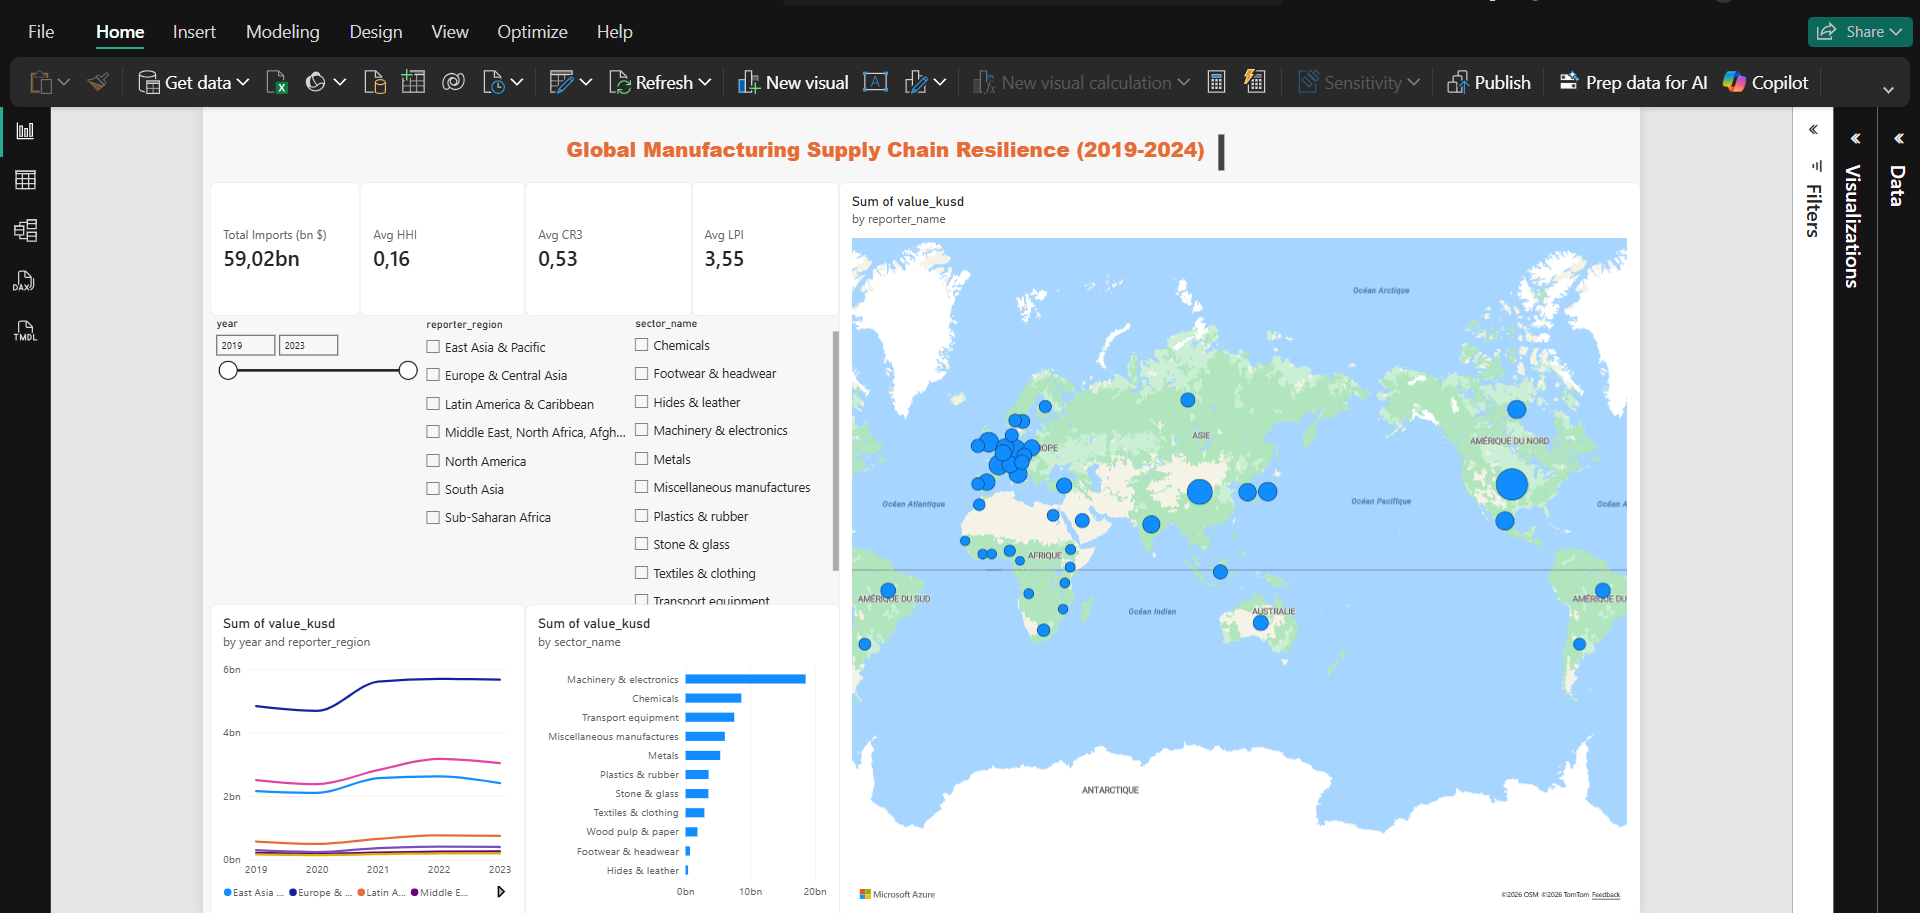

The dashboard page shown, as its layout file describes it:
{"tool":"powerbi","page":{"name":"Page 1","canvas":[1920,1080],"ordinal":0},"visuals":[{"type":"cardVisual","fields":{"Data":["Sum(MasterPanel.value_kusd)"]},"box":[10.3,100.9,199.7,179.1],"z":0},{"type":"cardVisual","fields":{"Data":["Avg(MasterPanel.cr3)"]},"box":[430.2,100.9,222.3,179.1],"z":1},{"type":"cardVisual","fields":{"Data":["Avg(MasterPanel.hhi)"]},"box":[209.9,100.9,220.2,179.1],"z":3},{"type":"cardVisual","fields":{"Data":["Avg(MasterPanel.lpi_score)"]},"box":[652.5,100.9,197.6,179.1],"z":4},{"type":"azureMap","fields":{"Category":["MasterPanel.reporter_name"],"Size":["Sum(MasterPanel.value_kusd)"]},"box":[850.1,100.9,1070.3,979.8],"z":5},{"type":"slicer","fields":{"Values":["MasterPanel.year"]},"box":[10.3,279.9,279.9,343.7],"z":6},{"type":"slicer","fields":{"Values":["MasterPanel.reporter_region"]},"box":[290.2,282,279.9,382.8],"z":7},{"type":"slicer","fields":{"Values":["MasterPanel.sector_name"]},"box":[570.2,279.9,279.9,384.9],"z":8},{"type":"lineChart","fields":{"Category":["MasterPanel.year"],"Series":["MasterPanel.reporter_region"],"Y":["Sum(MasterPanel.value_kusd)"]},"box":[10.3,664.8,419.9,415.8],"z":9},{"type":"clusteredBarChart","fields":{"Category":["MasterPanel.sector_name"],"Y":["Sum(MasterPanel.value_kusd)"]},"box":[430.2,664.8,419.9,415.8],"z":10},{"type":"textbox","box":[467.5,36.7,896.7,51.8],"z":12}]}

Visuals, with their boxes on the page's 1920x1080 design canvas (x1, y1, x2, y2). These are canvas units, not pixel positions in the 1920x913 screenshot, which may show the page scaled, cropped or inside an application window:
cardVisual - Sum(MasterPanel.value_kusd): locate(10, 101, 210, 280)
cardVisual - Avg(MasterPanel.cr3): locate(430, 101, 652, 280)
cardVisual - Avg(MasterPanel.hhi): locate(210, 101, 430, 280)
cardVisual - Avg(MasterPanel.lpi_score): locate(652, 101, 850, 280)
azureMap - MasterPanel.reporter_name x Sum(MasterPanel.value_kusd): locate(850, 101, 1920, 1081)
slicer - MasterPanel.year: locate(10, 280, 290, 624)
slicer - MasterPanel.reporter_region: locate(290, 282, 570, 665)
slicer - MasterPanel.sector_name: locate(570, 280, 850, 665)
lineChart - MasterPanel.year x MasterPanel.reporter_region: locate(10, 665, 430, 1081)
clusteredBarChart - MasterPanel.sector_name x Sum(MasterPanel.value_kusd): locate(430, 665, 850, 1081)
textbox: locate(468, 37, 1364, 88)
